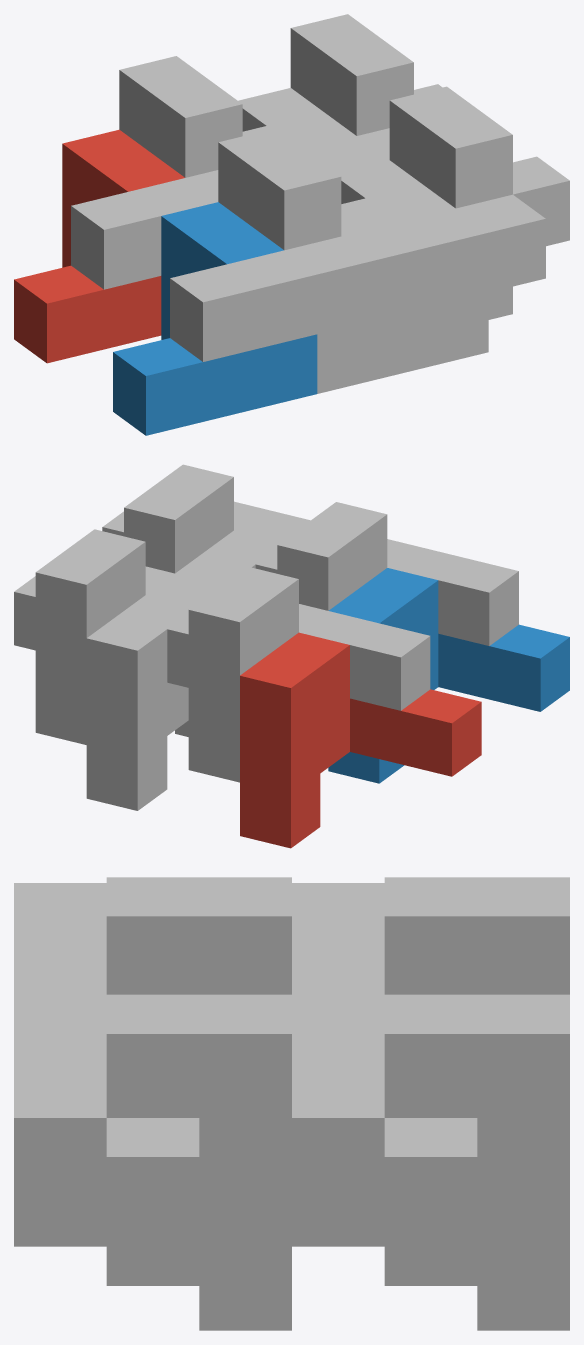
File: tiling.obj
3 views of the same model, one above another, from view 1: azimuth 30°, elevation 25°; view 2: azimuth 150°, elevation 25°; view 3: azimuth 270°, elevation 25° (orthographic). The views are drawn at different scales.
Visible parts, largest first — view 1: copy_1_domain_4, copy_1_domain_8, copy_1_domain_2, copy_1_domain_3, copy_1_domain_1, copy_1_domain_6, copy_1_domain_7, copy_1_domain_5; view 2: copy_1_domain_1, copy_1_domain_3, copy_1_domain_7, copy_1_domain_5, copy_1_domain_4, copy_1_domain_2, copy_1_domain_8, copy_1_domain_6; view 3: copy_1_domain_7, copy_1_domain_8, copy_1_domain_3, copy_1_domain_4, copy_1_domain_5, copy_1_domain_6.
Boxes of the visible parts, <box> form: copy_1_domain_4: <box>170,128,398,361</box>; copy_1_domain_8: <box>342,86,569,320</box>; copy_1_domain_2: <box>113,202,317,435</box>; copy_1_domain_3: <box>71,56,270,289</box>; copy_1_domain_1: <box>14,129,184,363</box>; copy_1_domain_6: <box>317,160,512,393</box>; copy_1_domain_7: <box>290,14,442,172</box>; copy_1_domain_5: <box>238,88,356,148</box>; copy_1_domain_1: <box>240,632,481,848</box>; copy_1_domain_3: <box>167,566,430,782</box>; copy_1_domain_7: <box>14,529,221,744</box>; copy_1_domain_5: <box>86,595,192,810</box>; copy_1_domain_4: <box>255,502,518,645</box>; copy_1_domain_2: <box>328,568,569,783</box>; copy_1_domain_8: <box>102,464,310,573</box>; copy_1_domain_6: <box>175,530,280,736</box>; copy_1_domain_7: <box>292,994,569,1285</box>; copy_1_domain_8: <box>14,994,291,1285</box>; copy_1_domain_3: <box>292,877,569,1000</box>; copy_1_domain_4: <box>14,877,291,1000</box>; copy_1_domain_5: <box>292,1202,569,1330</box>; copy_1_domain_6: <box>14,1202,291,1330</box>.
Bounding box in the file's own units: 8 × 4 × 6.
